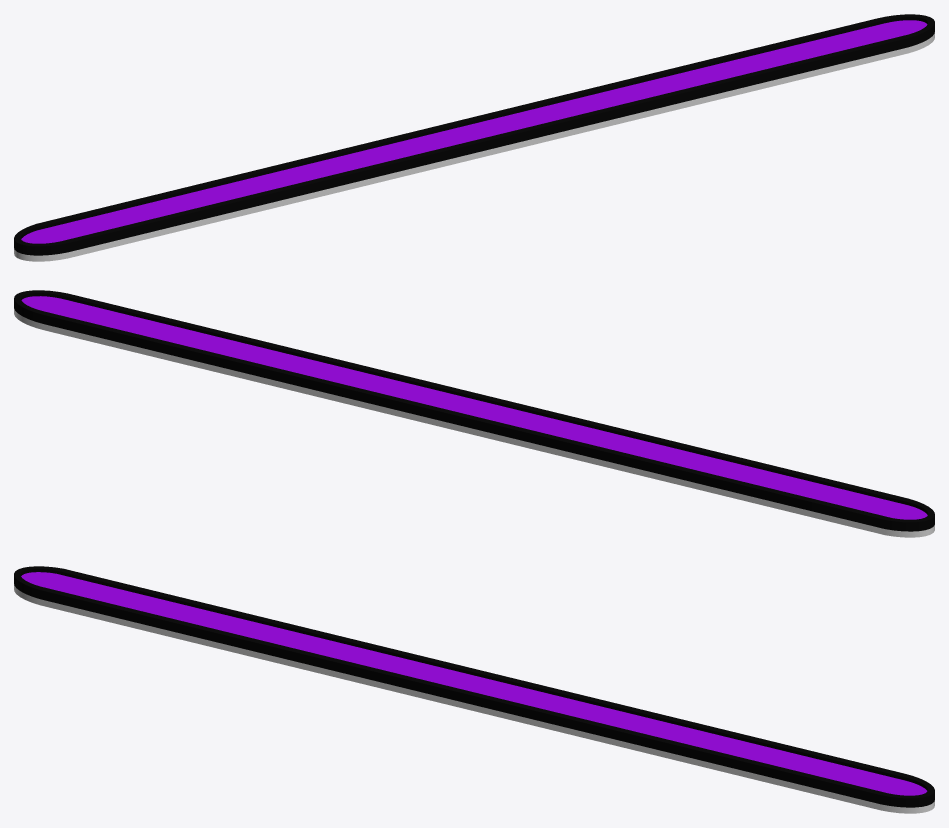
The model's file is OpenNote.fbx.
The picture shows the model from 3 angles, top to bottom: view 1: azimuth 30°, elevation 25°; view 2: azimuth 150°, elevation 25°; view 3: azimuth 330°, elevation 25°; orthographic projection.
Parts seen in each view (by area): view 1: Cylinder.021; view 2: Cylinder.021; view 3: Cylinder.021.
Boxes of the visible parts, left/top/right/bottom form: Cylinder.021: left=14, top=14, right=934, bottom=261; Cylinder.021: left=14, top=290, right=934, bottom=537; Cylinder.021: left=14, top=566, right=934, bottom=813.
Size of the model in its own units: 303 by 4.82 by 16.08.
